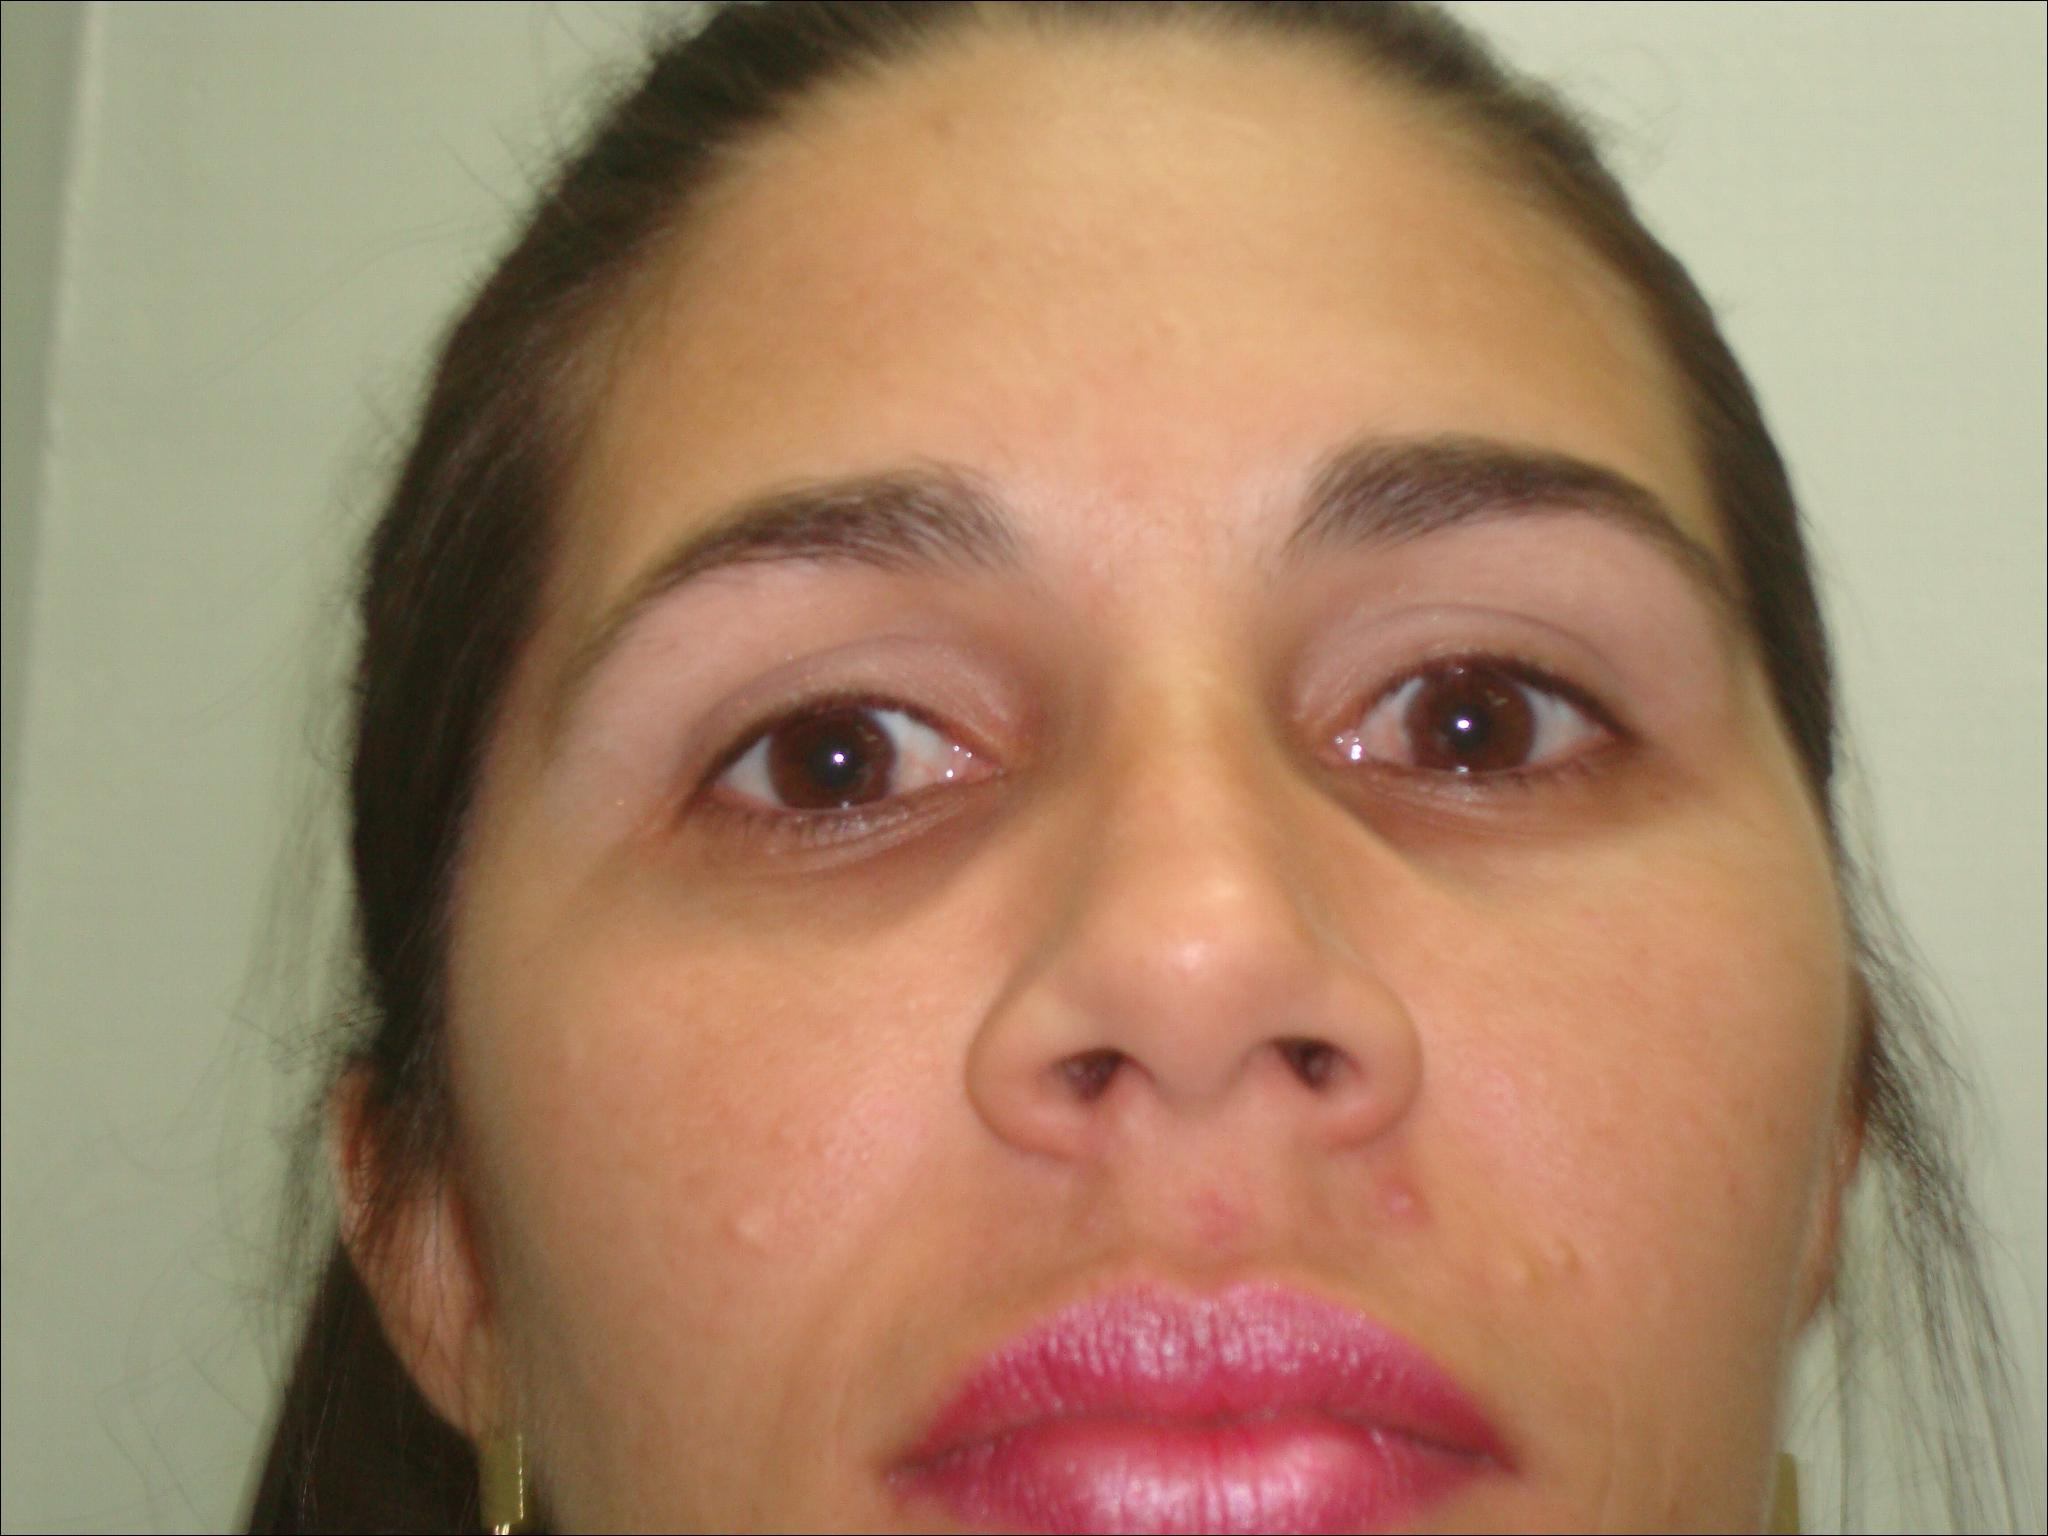flash: (1453, 713, 1474, 734), (830, 749, 848, 766)
limbo: (1400, 663, 1535, 787), (772, 703, 897, 820)
